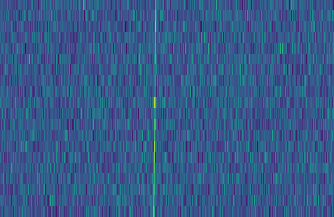signal: (148, 0, 159, 217)
